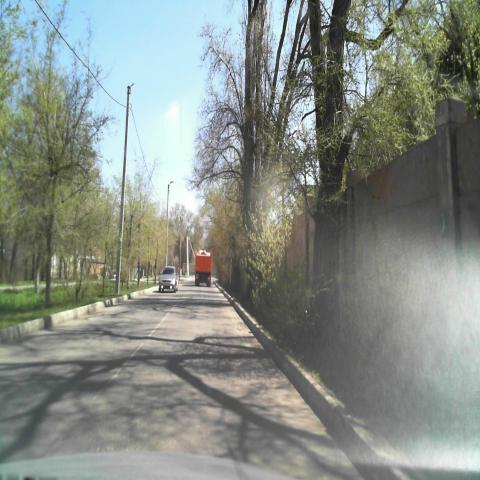1_11: (226, 242, 236, 258)
